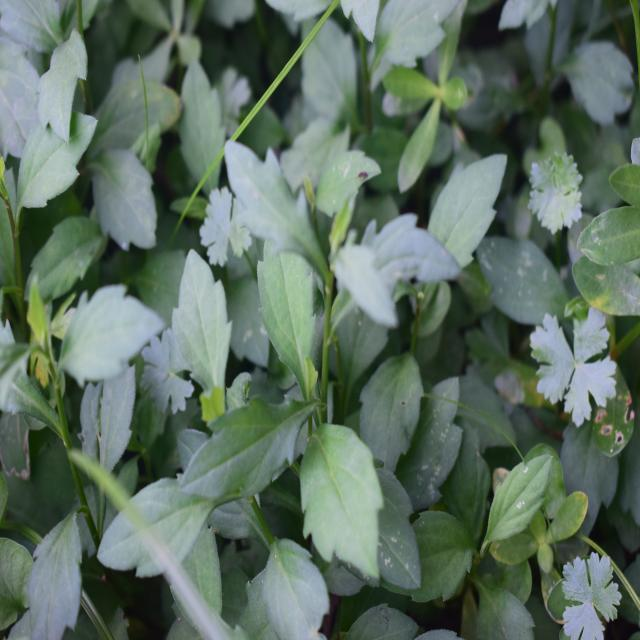Indian aster: (137, 159, 435, 556)
